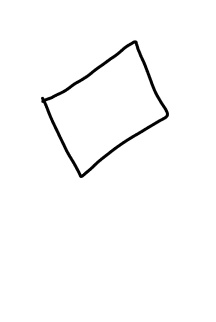Square: (37, 38, 171, 180)
